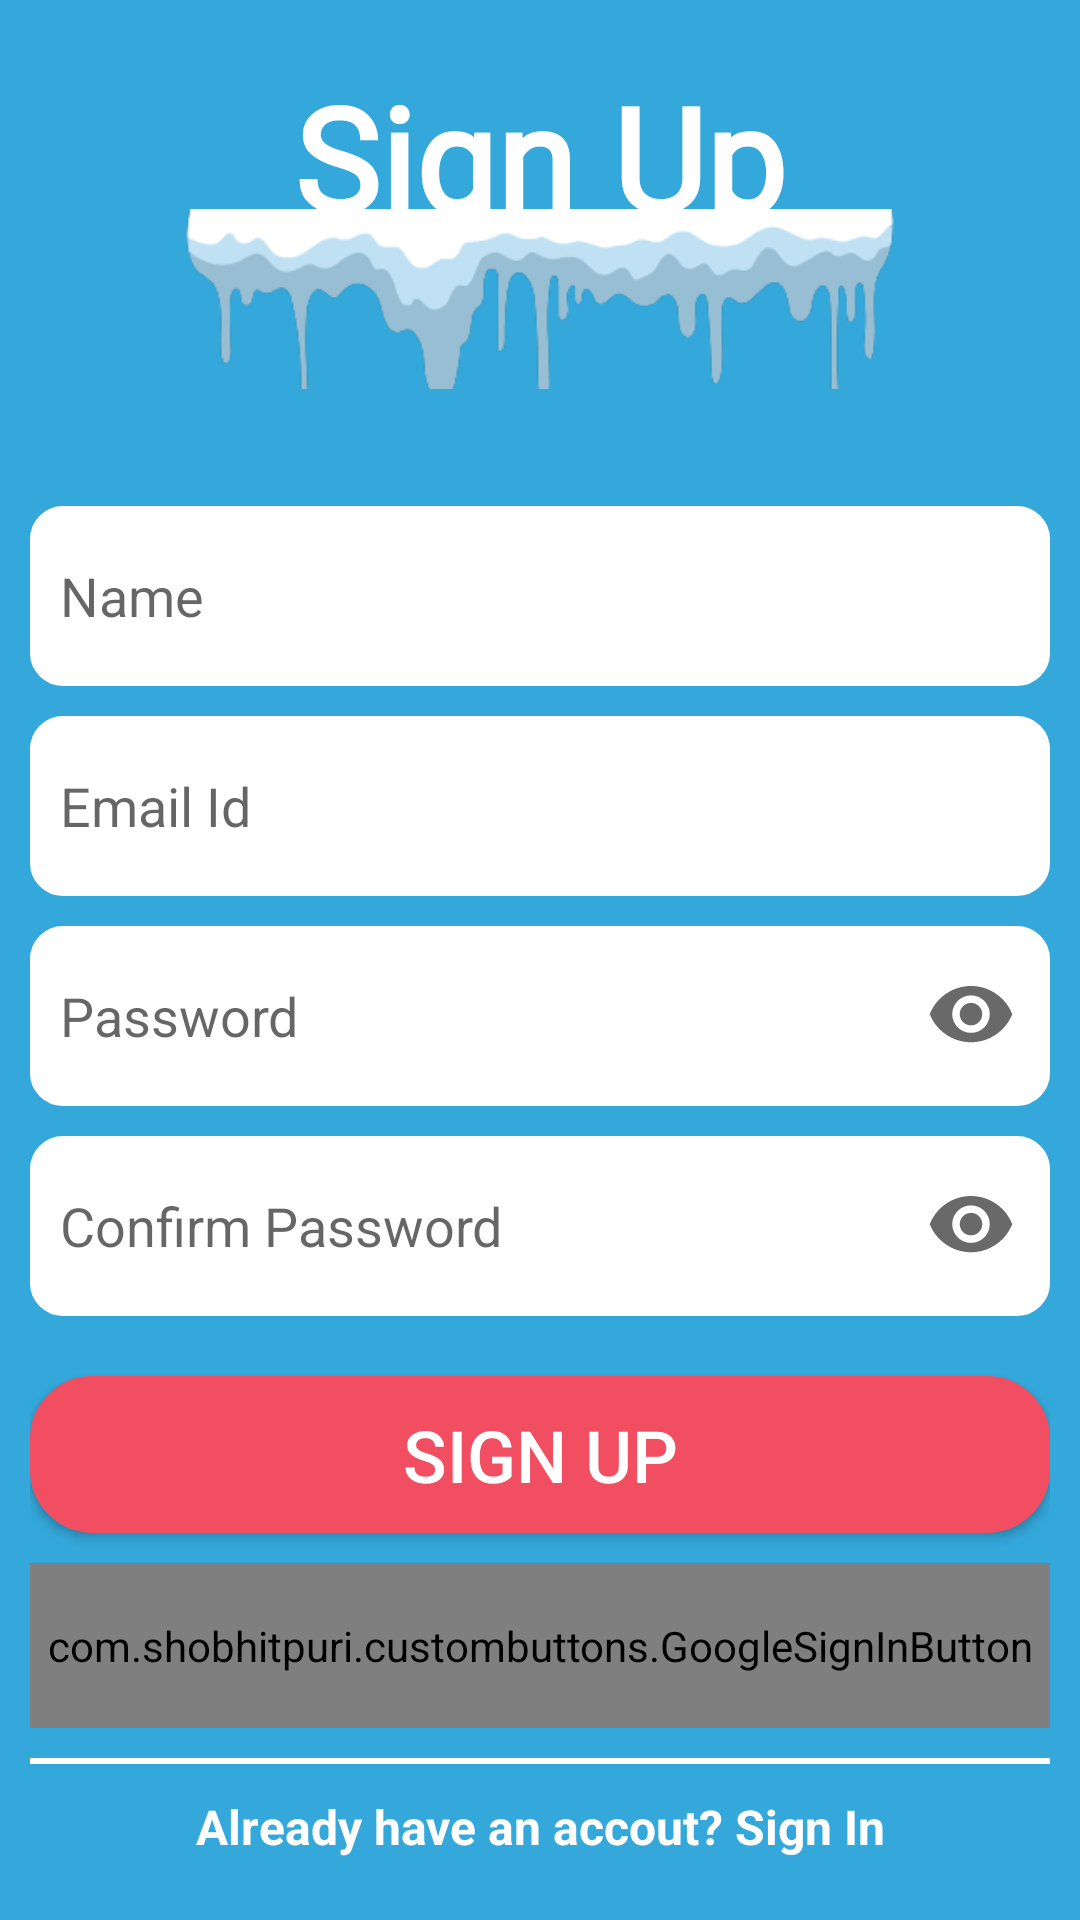

Named icons in this screenshot (1080px x 1920px) and their centers, (x,y):
visibility: (971,1014), (971,1224)
